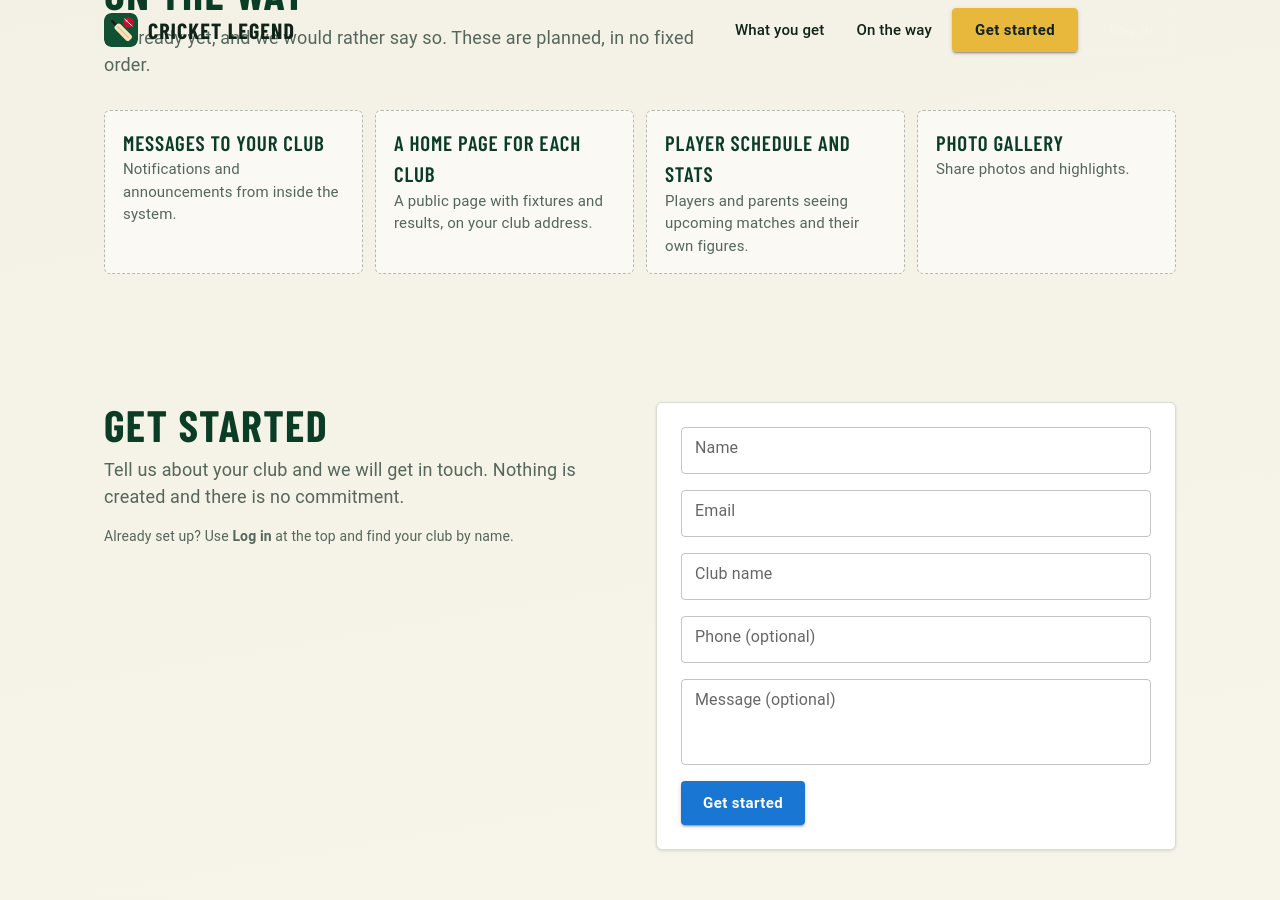
Test: LandingPage lead-capture form › shows an inline error for a malformed email and does not submit
The image size is (1280, 900).
(page scrolled)
Step 1. Type "Riaan Coetzee" into the field labelled "Name" → coordinates (916, 451), box 681,427 -> 1151,474
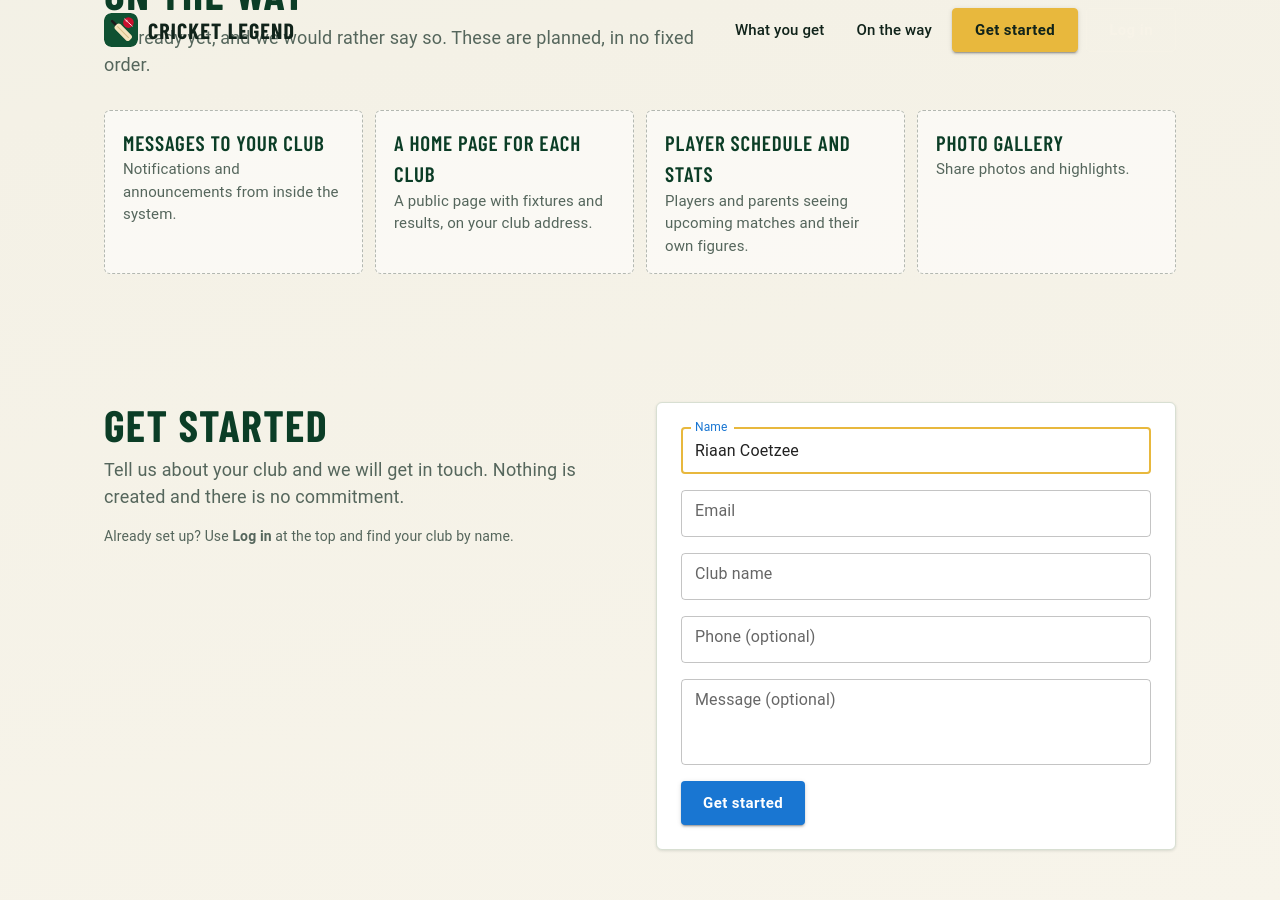
Step 2. Type "not-an-email" into the field labelled "Email" → coordinates (916, 514), box 681,490 -> 1151,537
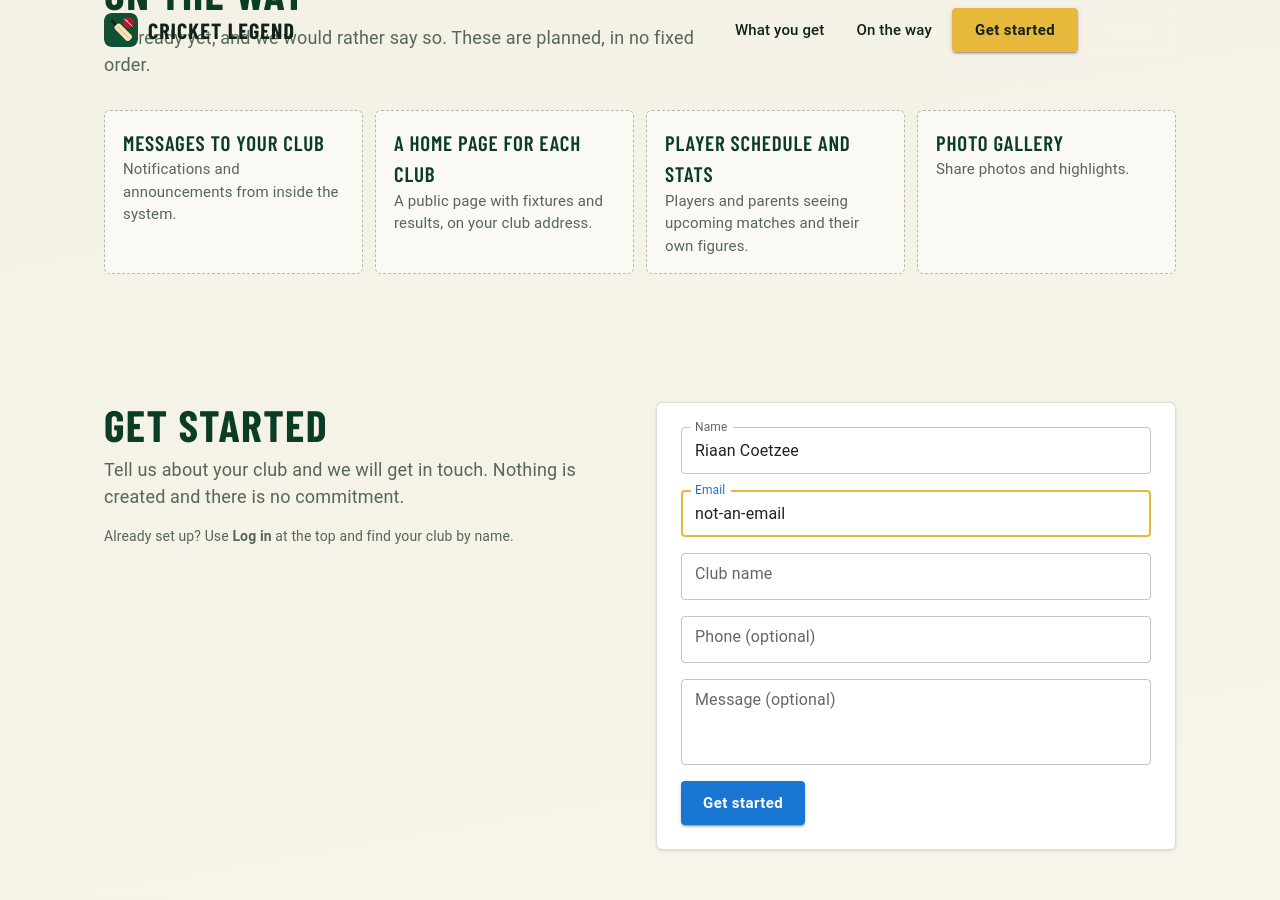
Step 3. Type "Riverside CC" into the field labelled "Club name" → coordinates (916, 577), box 681,553 -> 1151,600
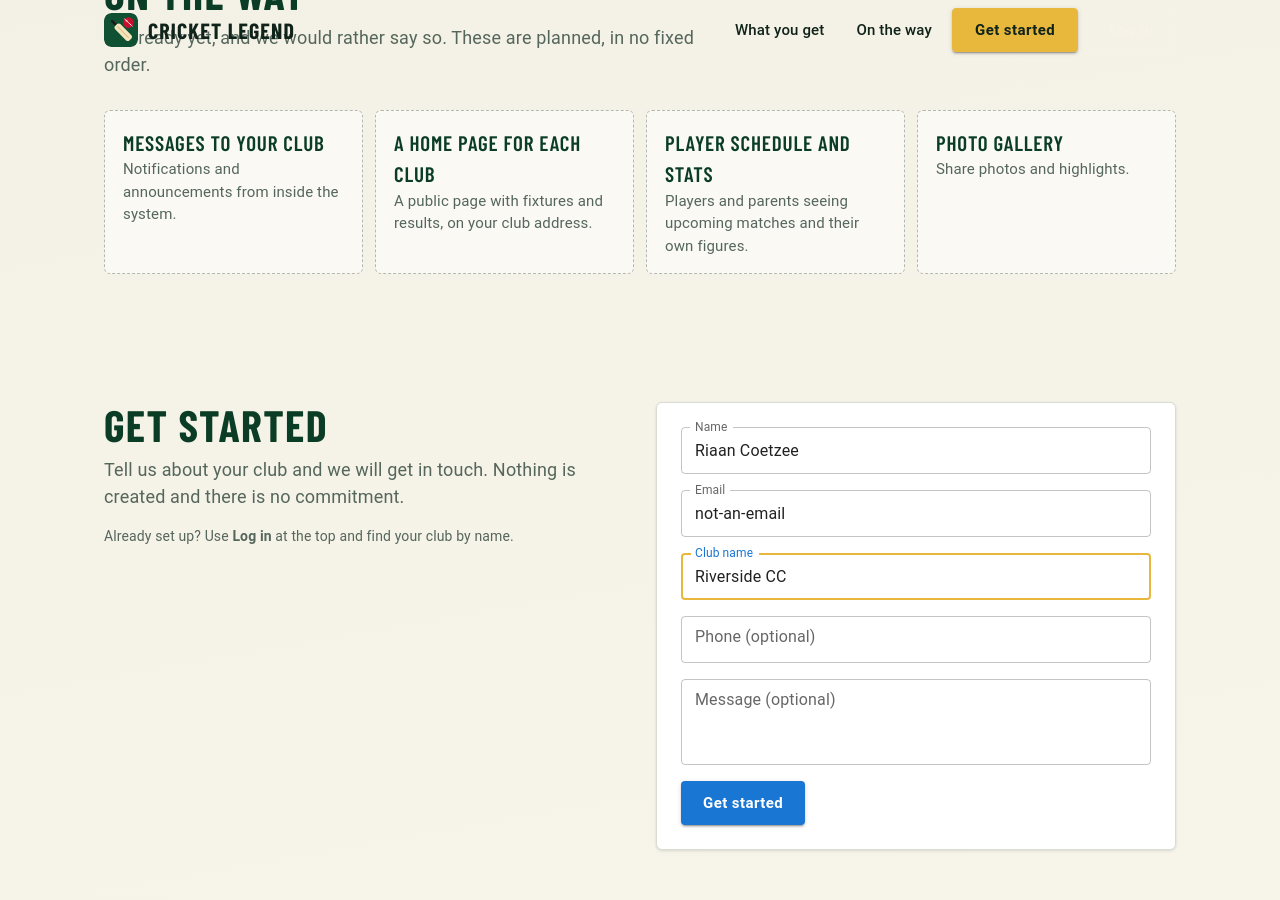
Step 4. Click the button "Get started" → coordinates (743, 803), box 681,781 -> 805,825
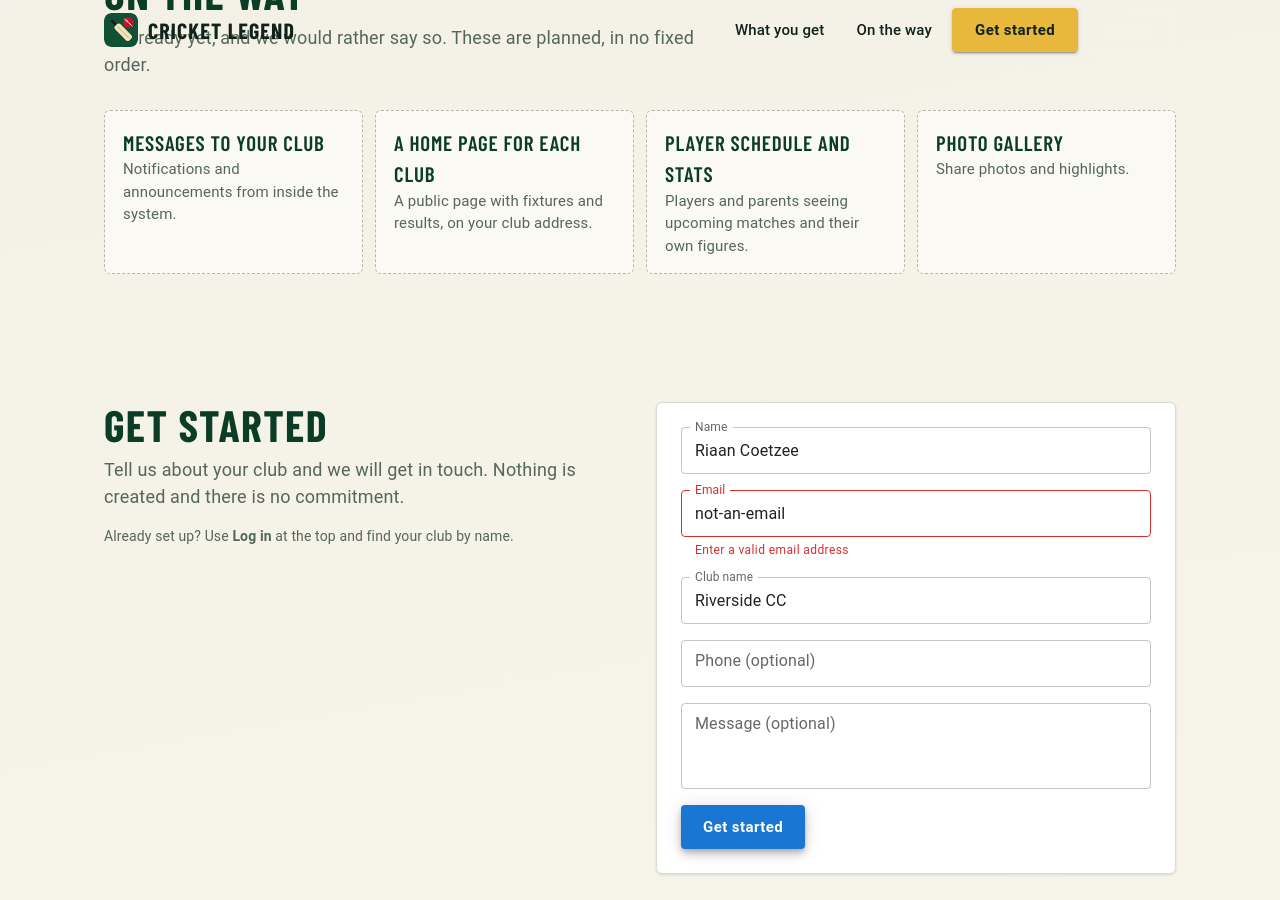
Check: the text "Enter a valid email address" is shown, box 695,543 -> 849,557
